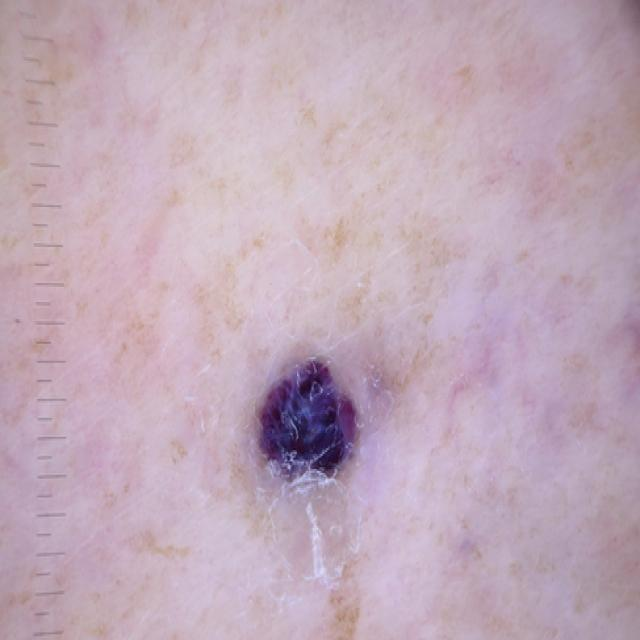Vascular Lesions: (224, 326, 392, 499)
